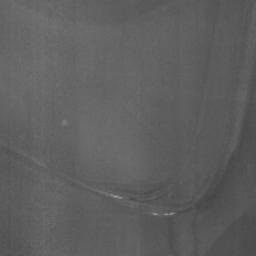Crease: (0, 38, 256, 217)
